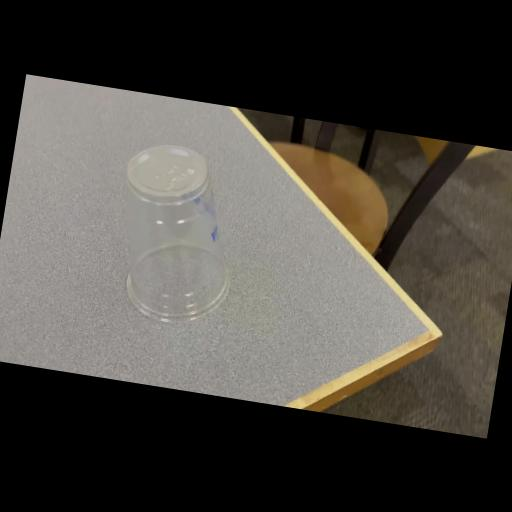lp_plastic_cup: (100, 136, 254, 338)
